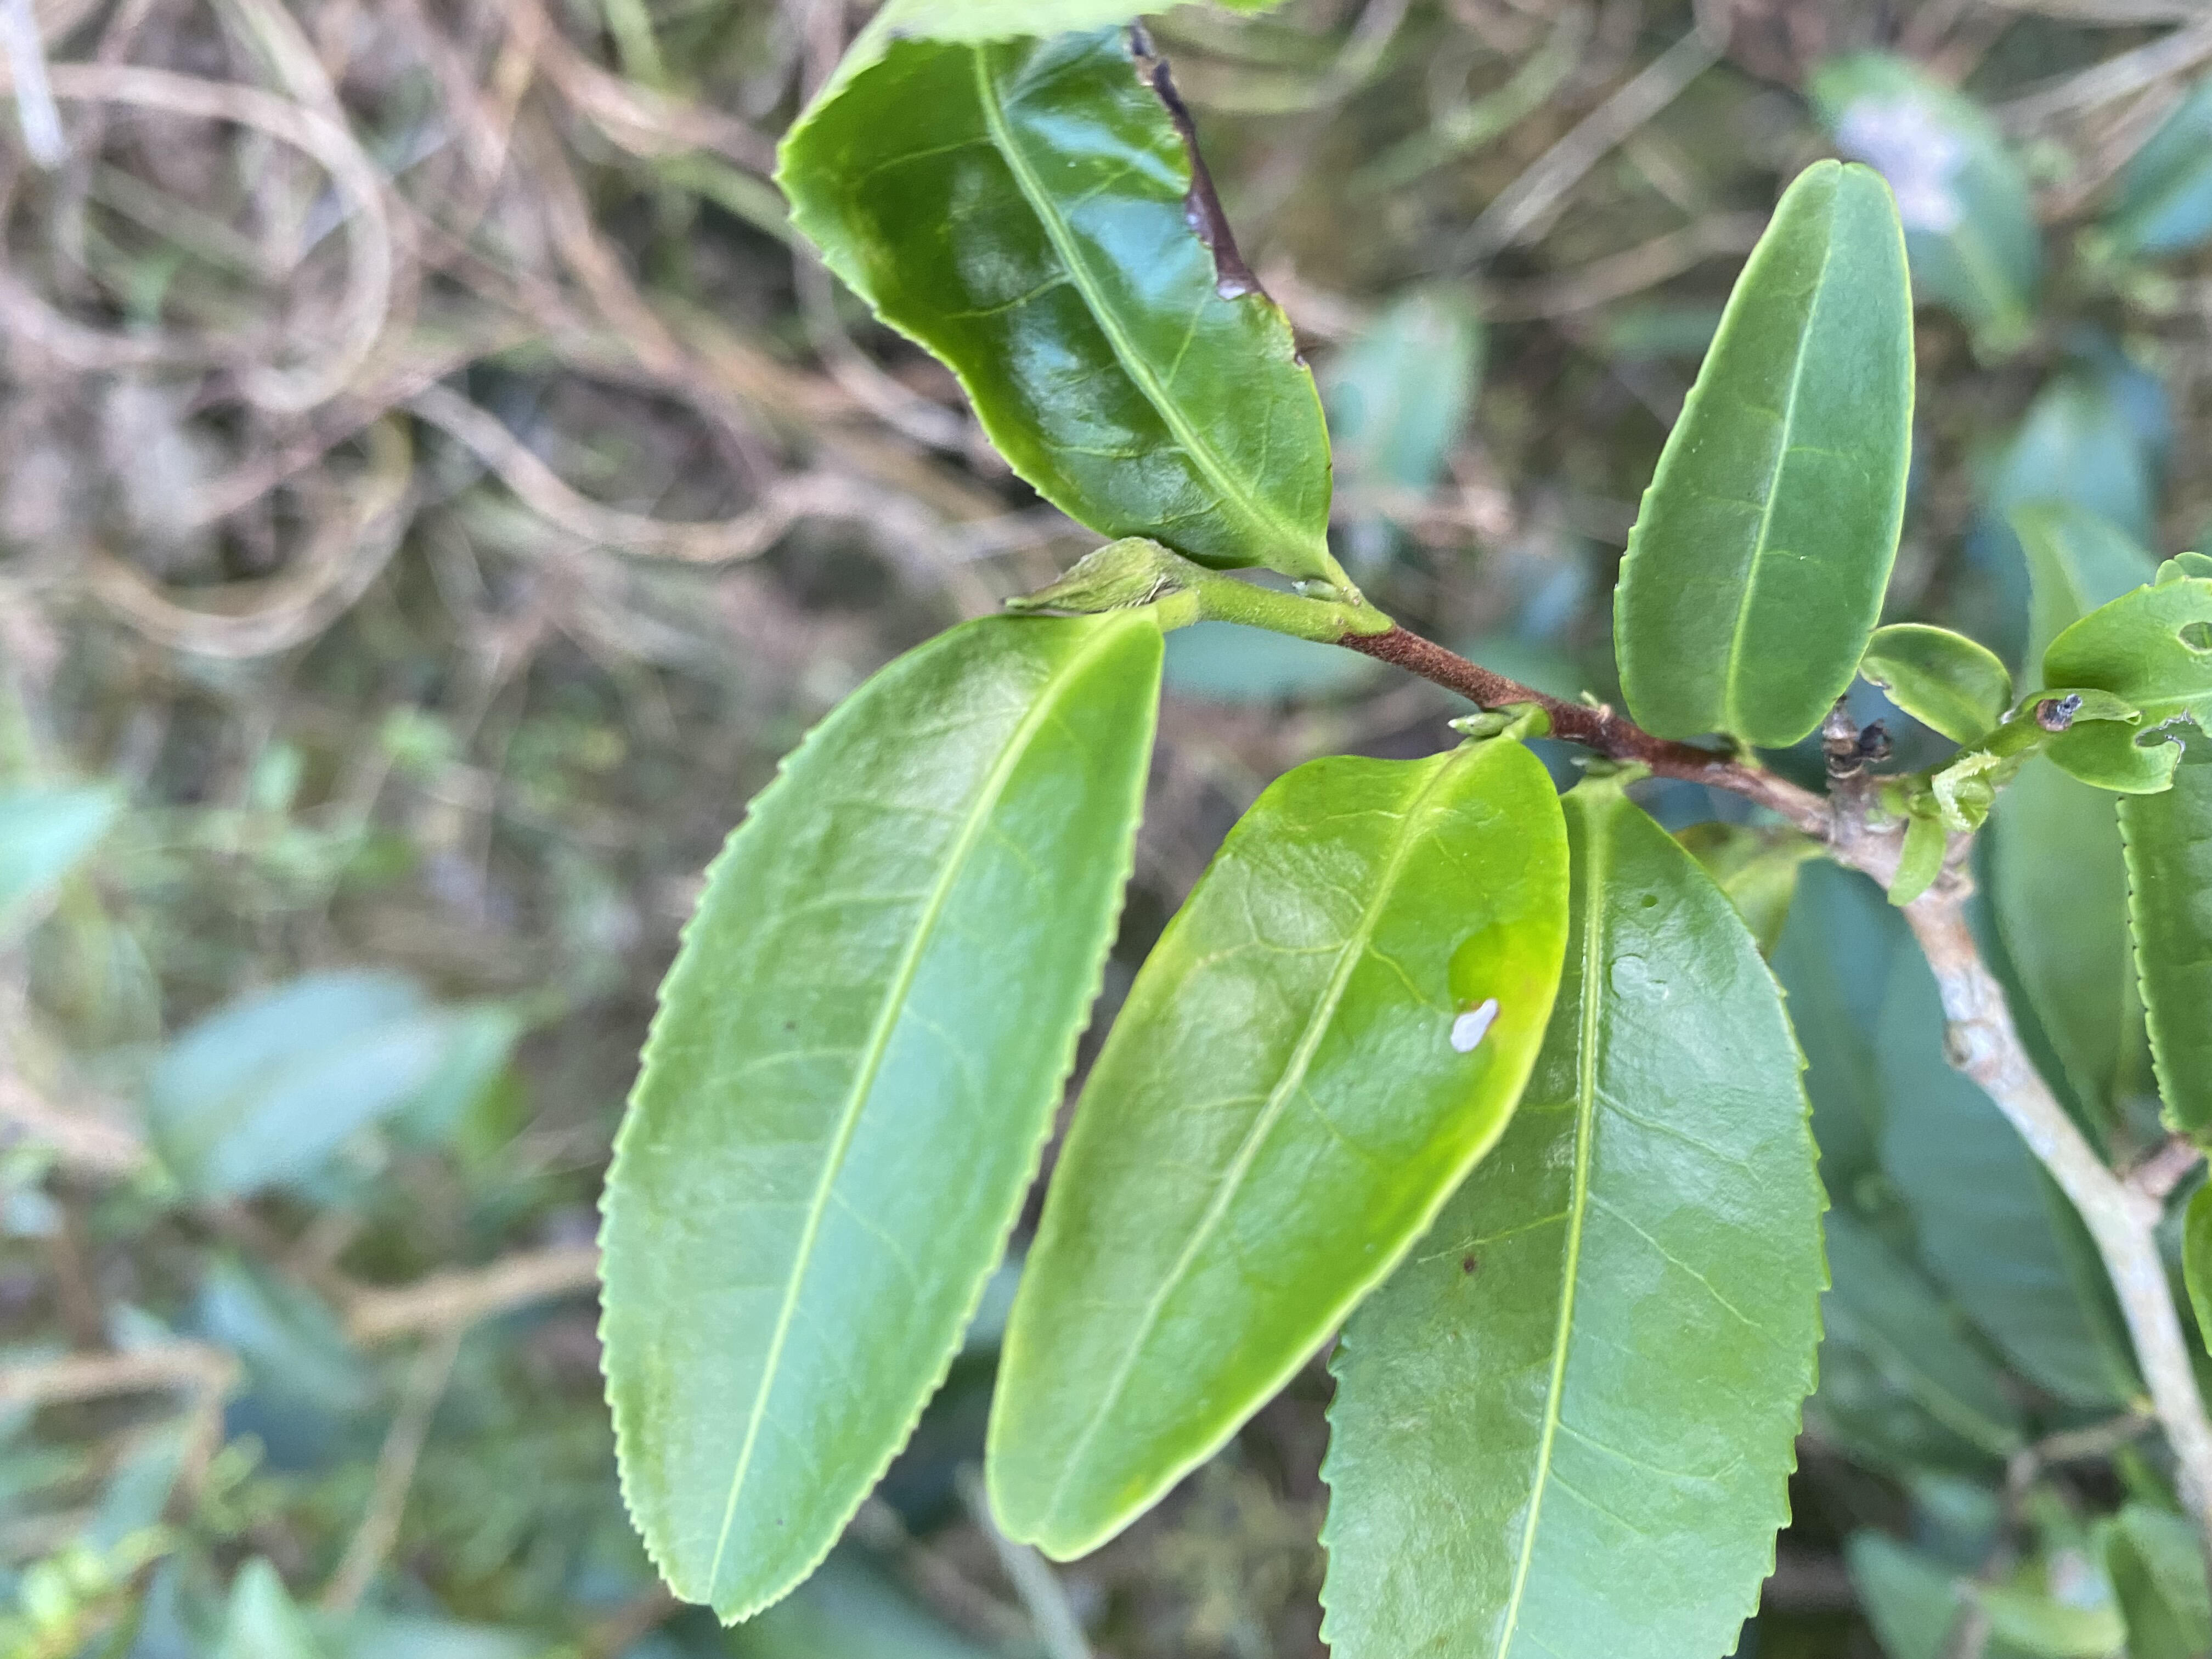chihuo_high: (2043, 575, 2212, 796)
healthy: (590, 606, 1165, 1631), (1611, 157, 1916, 753)
tanju_high: (768, 5, 1338, 575)
tanju_low: (981, 737, 1573, 1563)
